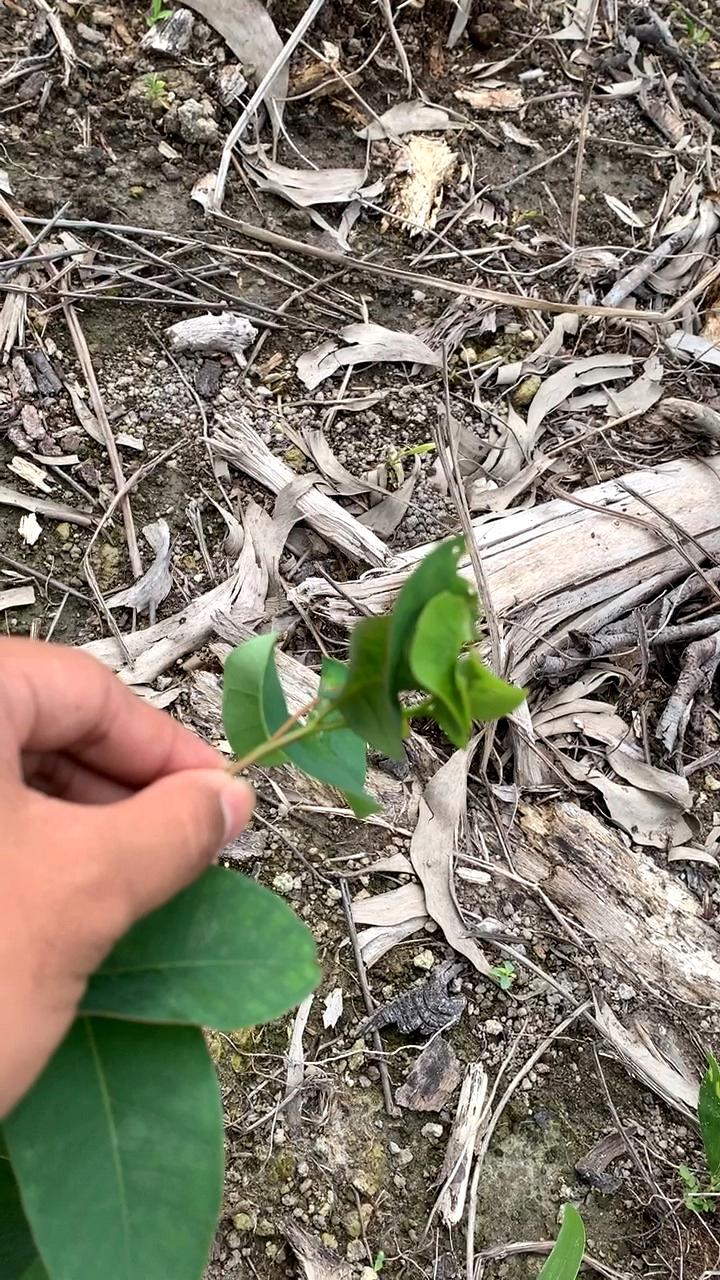Leaf Roller - Leaf: (323, 546, 543, 791)
